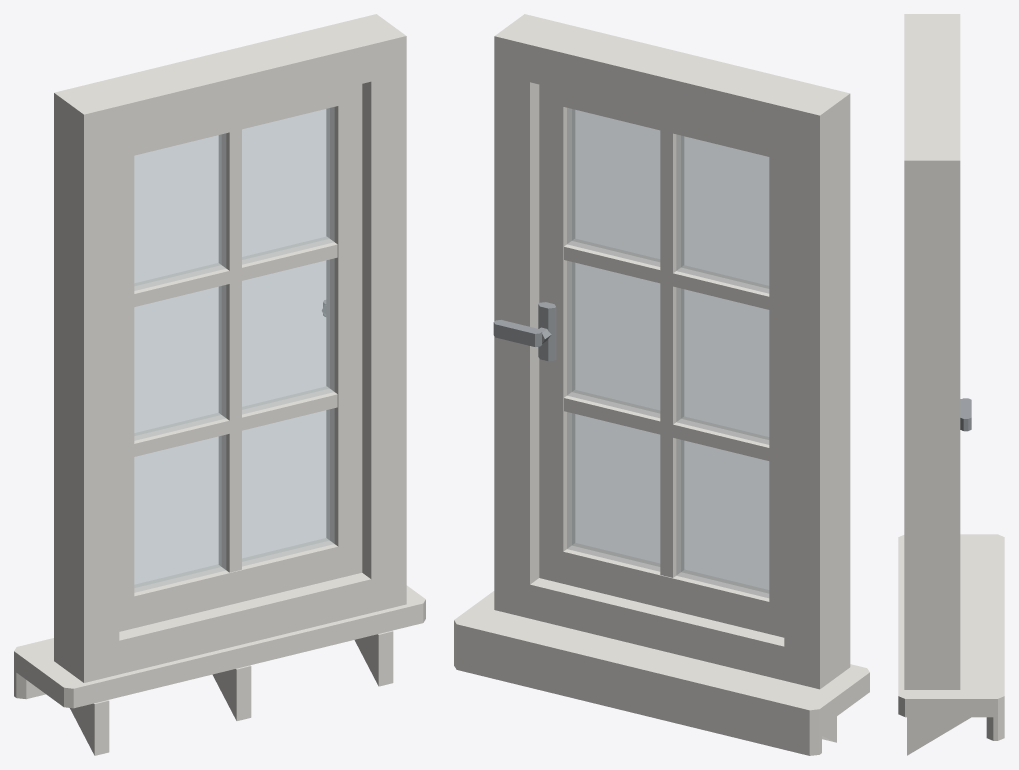
The model's file is SM_LPI_Open_Window_01.fbx.
The picture shows the model from 3 angles, left to right: view 1: azimuth 30°, elevation 25°; view 2: azimuth 150°, elevation 25°; view 3: azimuth 270°, elevation 25°; orthographic projection. The views are drawn at different scales.
Parts seen in each view (by area): view 1: SM_LPI_Open_Window_01; view 2: SM_LPI_Open_Window_01; view 3: SM_LPI_Open_Window_01.
Part boxes in pixels (x1,y1,x2,y2): SM_LPI_Open_Window_01: [14, 14, 425, 755]; SM_LPI_Open_Window_01: [454, 14, 869, 755]; SM_LPI_Open_Window_01: [898, 14, 1004, 755].
Bounding box in the file's own units: 0.696 × 1.18 × 0.19.
